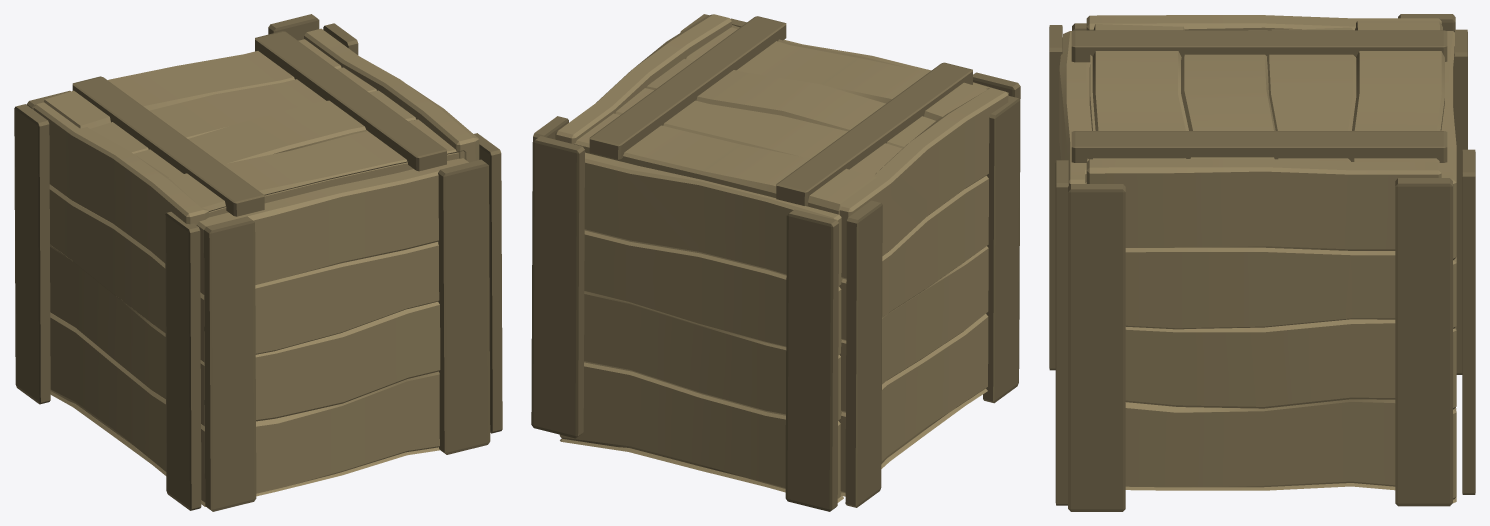
The model's file is crate.fbx.
3 views of the same model, side by side, from view 1: azimuth 30°, elevation 25°; view 2: azimuth 150°, elevation 25°; view 3: azimuth 270°, elevation 25° (orthographic). The views are drawn at different scales.
Visible parts, largest first — view 1: pCube223_wood_2_0; view 2: pCube223_wood_2_0; view 3: pCube223_wood_2_0.
Part boxes in pixels (x1,y1,x2,y2): pCube223_wood_2_0: (14, 14, 502, 511); pCube223_wood_2_0: (531, 14, 1020, 511); pCube223_wood_2_0: (1049, 14, 1475, 511).
Bounding box in the file's own units: 1392 × 1247 × 1408.
